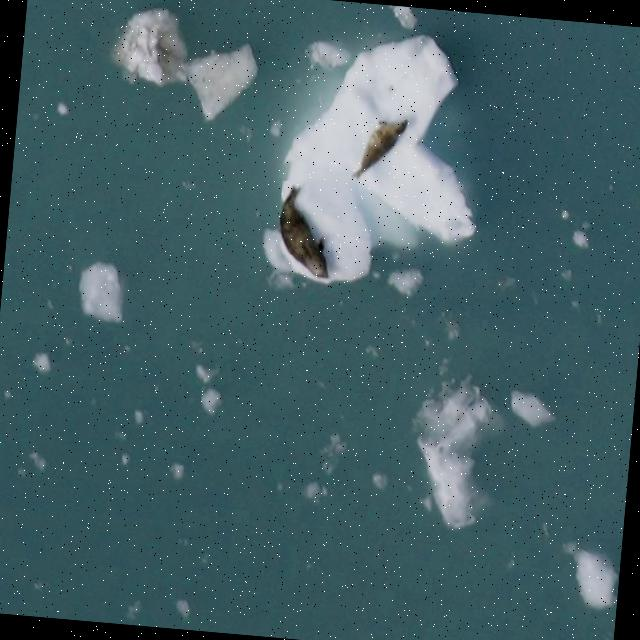seal: (263, 179, 341, 287), (343, 105, 412, 189)
